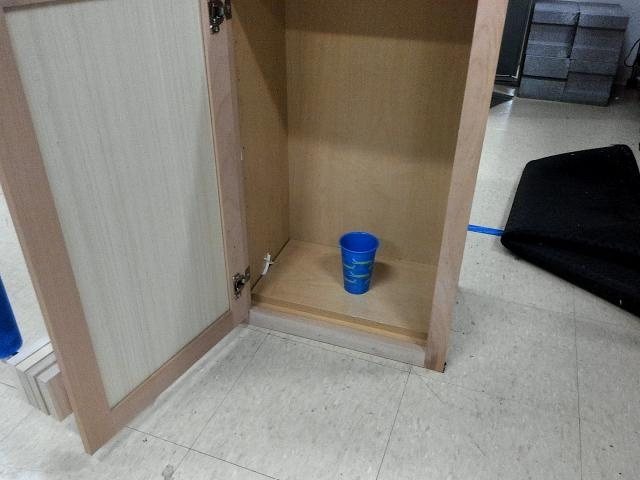water_cup: (333, 228, 385, 295)
